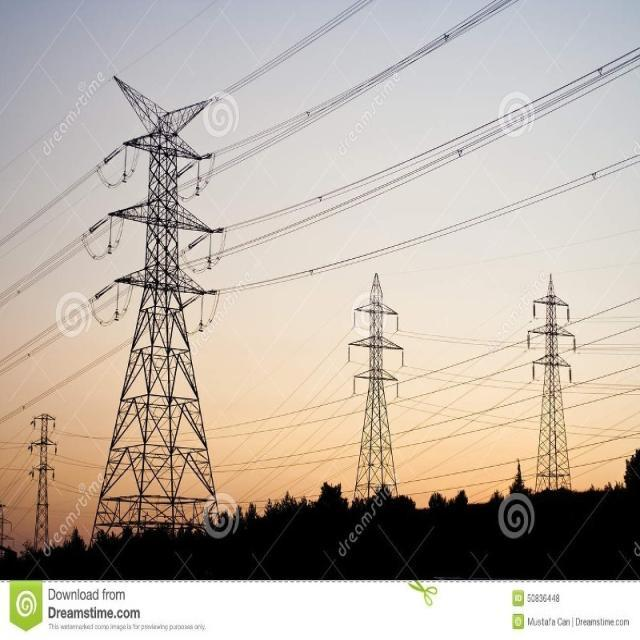non-critical vegetation: (95, 82, 252, 538), (345, 269, 408, 504), (528, 284, 579, 492), (23, 402, 66, 574)
